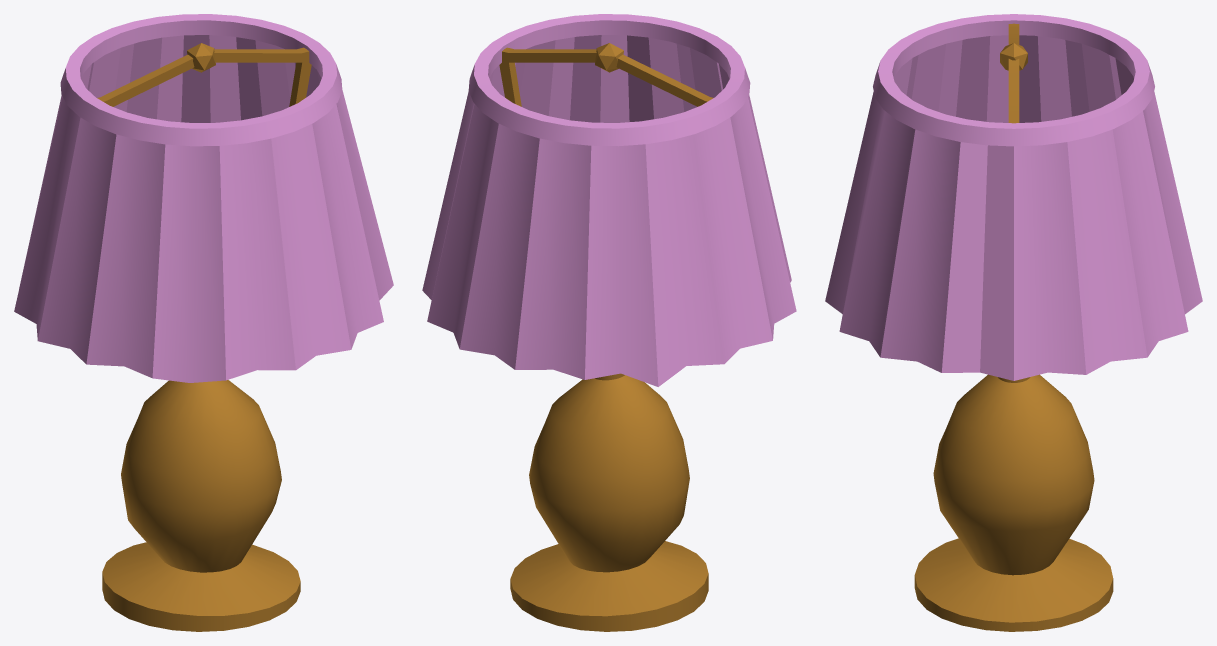
The model's file is lampTable.fbx.
3 renders of one model, left to right at view 1: azimuth 30°, elevation 25°; view 2: azimuth 150°, elevation 25°; view 3: azimuth 270°, elevation 25°, orthographic.
Visible parts, largest first — view 1: Table Lamp; view 2: Table Lamp; view 3: Table Lamp.
Part boxes in pixels (x1,y1,x2,y2): Table Lamp: (14, 14, 393, 631); Table Lamp: (422, 14, 796, 631); Table Lamp: (825, 14, 1202, 631).
Size of the model in its own units: 81.4 by 81.4 by 130.
